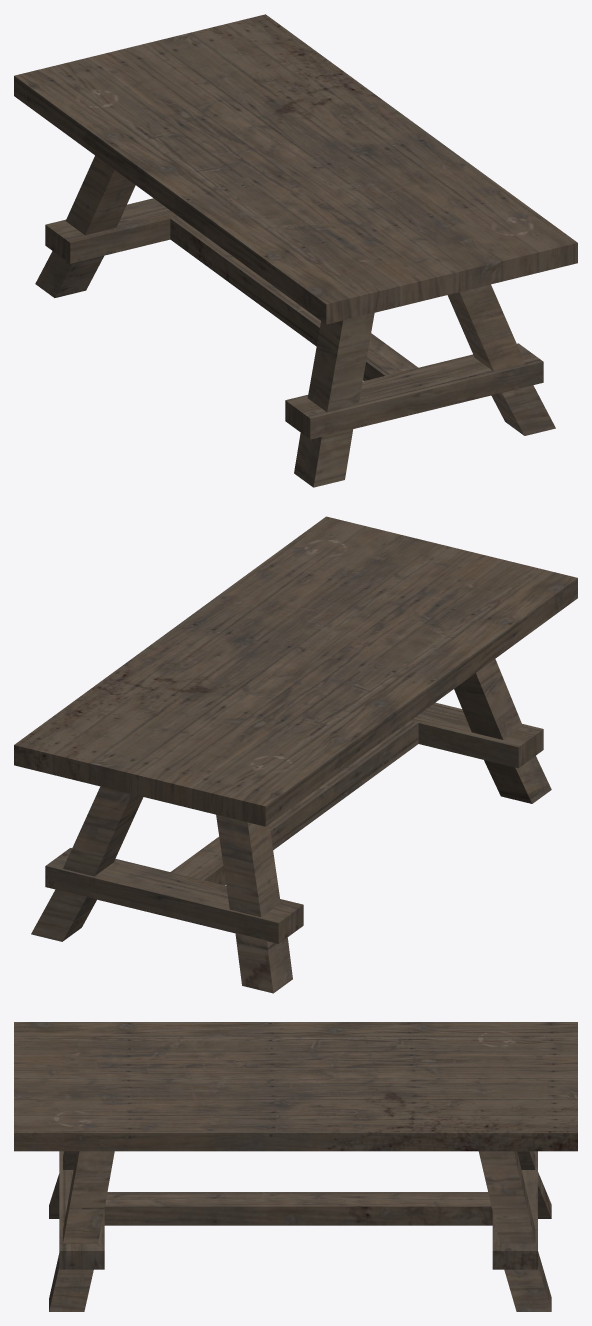
File: worn_medieval_table_low_poly.glb
3 renders of one model, top to bottom at view 1: azimuth 30°, elevation 25°; view 2: azimuth 150°, elevation 25°; view 3: azimuth 270°, elevation 25°, orthographic. The views are drawn at different scales.
Parts seen in each view (by area): view 1: Support1; view 2: Support1; view 3: Support1.
Part boxes in pixels (x1=…): Support1: x1=14, y1=14, x2=577, y2=487; Support1: x1=14, y1=516, x2=577, y2=993; Support1: x1=14, y1=1022, x2=577, y2=1311.
Bounding box in the file's own units: 58.41 × 44.18 × 125.
Materials: 1 (1 with a texture image).
